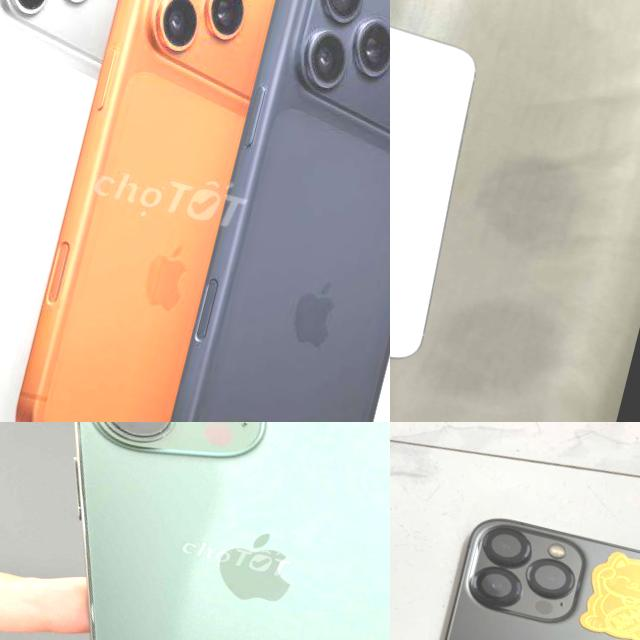gen_11: (390, 0, 506, 389)
gen_12_13: (0, 422, 390, 640), (390, 508, 640, 640)
gen_17: (149, 0, 390, 422)
